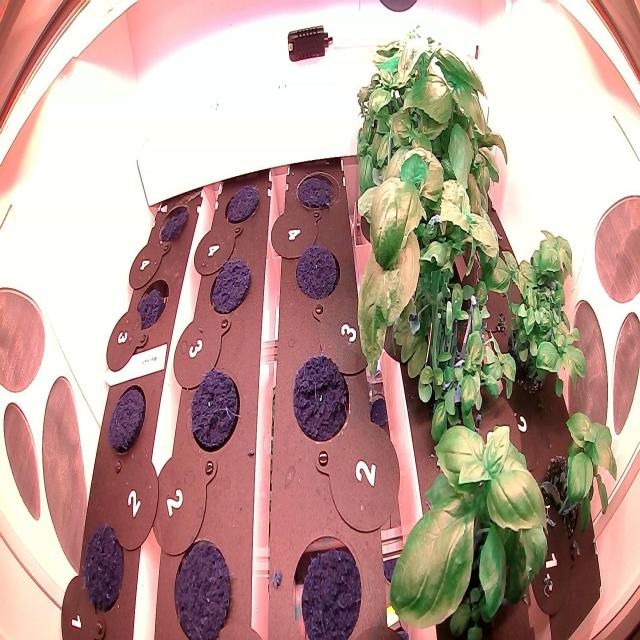pod: (289, 530, 366, 640), (170, 536, 234, 640), (288, 350, 352, 450), (183, 359, 240, 458), (81, 521, 126, 612), (104, 382, 150, 461), (294, 238, 340, 304), (208, 254, 252, 318), (294, 163, 343, 218), (153, 195, 192, 253), (222, 177, 264, 228), (132, 274, 168, 331)
